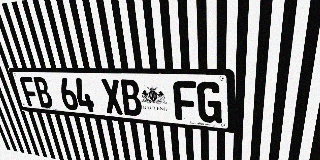4: (72, 78, 95, 112)
6: (57, 78, 80, 111)
B: (119, 79, 143, 116), (32, 77, 54, 108)
F: (173, 81, 197, 121), (19, 77, 41, 107)
G: (197, 81, 222, 124)
X: (100, 79, 124, 115)
